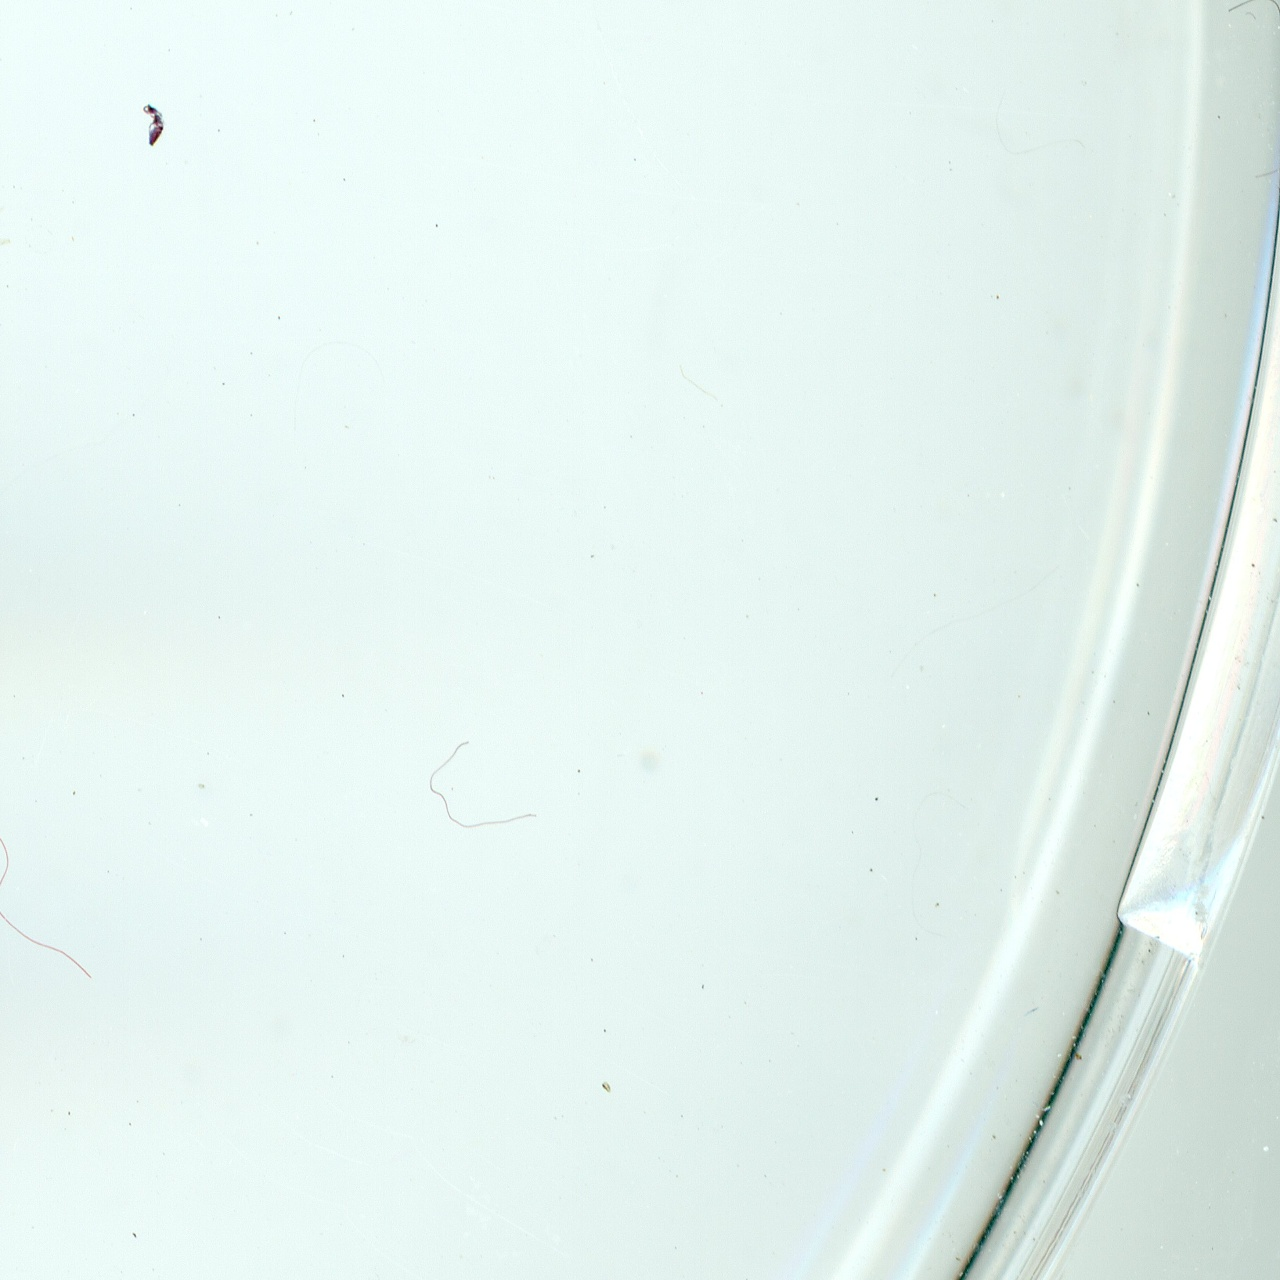arthropod: (138, 100, 168, 152)
